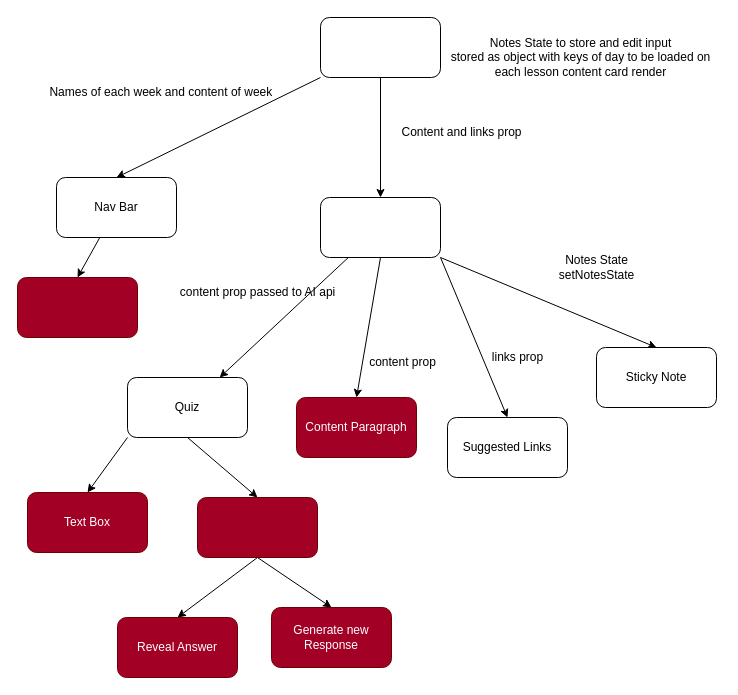
This 738x695 diagram has some shape labels left out. Each missing label, with the box of its shape:
App: (320, 16, 440, 78)
Button: (196, 496, 318, 558)
Lesson Content: (320, 196, 440, 258)
Nav Bar Button: (16, 276, 138, 338)
